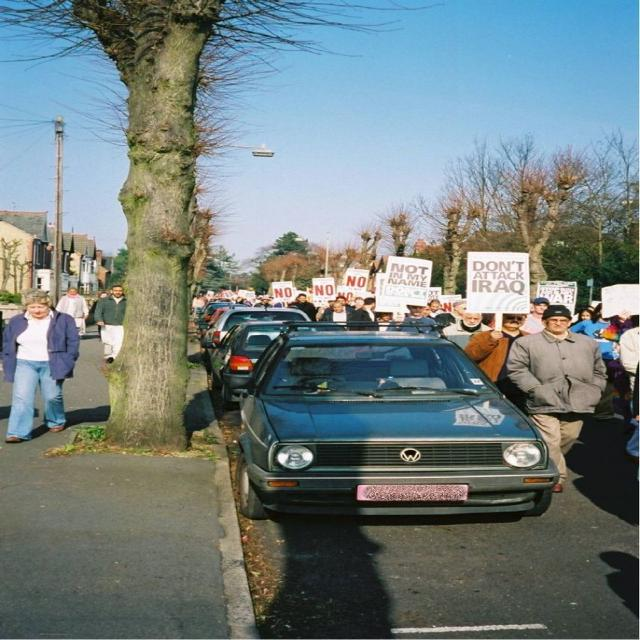car: (234, 317, 563, 521)
